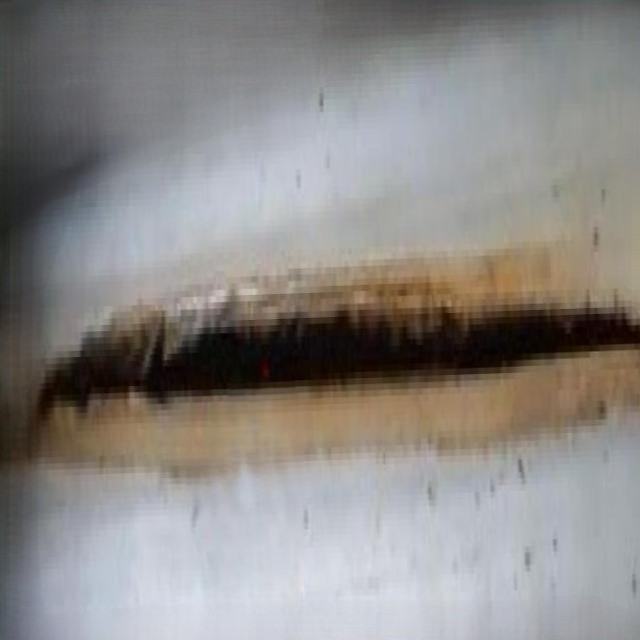Tear: (14, 294, 640, 431)
